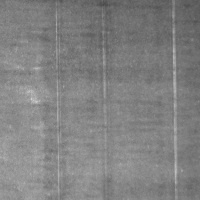scratches: (167, 4, 182, 198)
